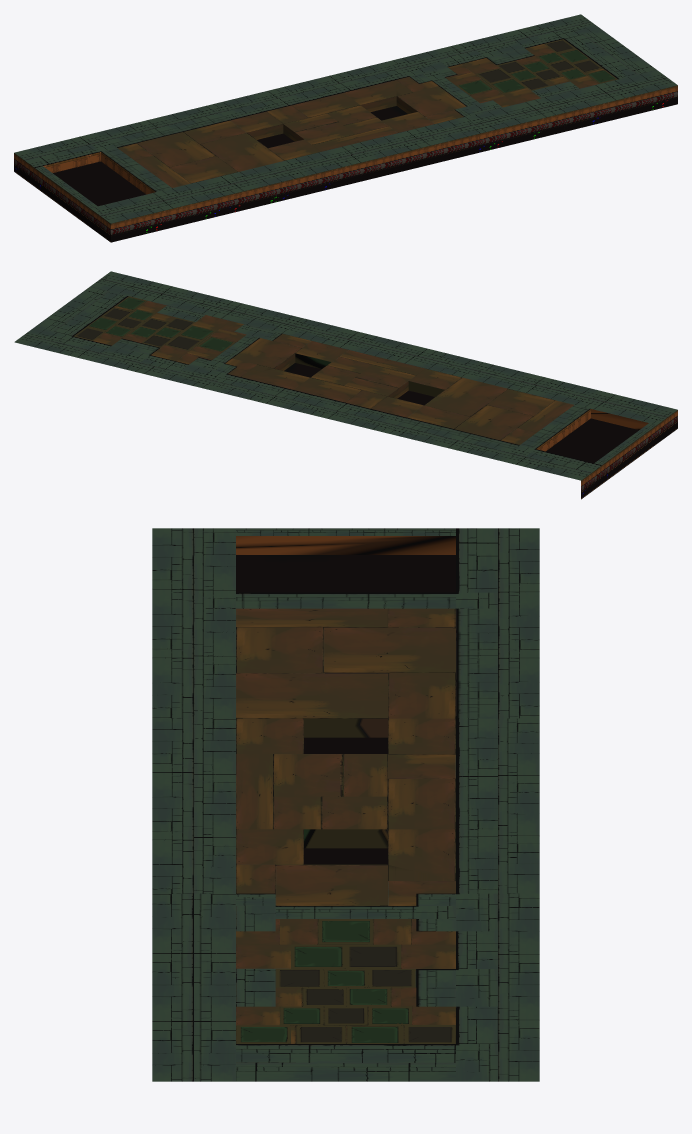
File: Floor_02.fbx
3 views of the same model, one above another, from view 1: azimuth 30°, elevation 25°; view 2: azimuth 150°, elevation 25°; view 3: azimuth 270°, elevation 25° (orthographic). The views are drawn at different scales.
Visible parts, largest first — view 1: Cube; view 2: Cube; view 3: Cube.
Boxes of the visible parts, left/top/right/bottom form: Cube: left=14, top=14, right=677, bottom=242; Cube: left=14, top=271, right=677, bottom=499; Cube: left=152, top=528, right=539, bottom=1081.
Size of the model in its own units: 2500 by 80 by 740.
